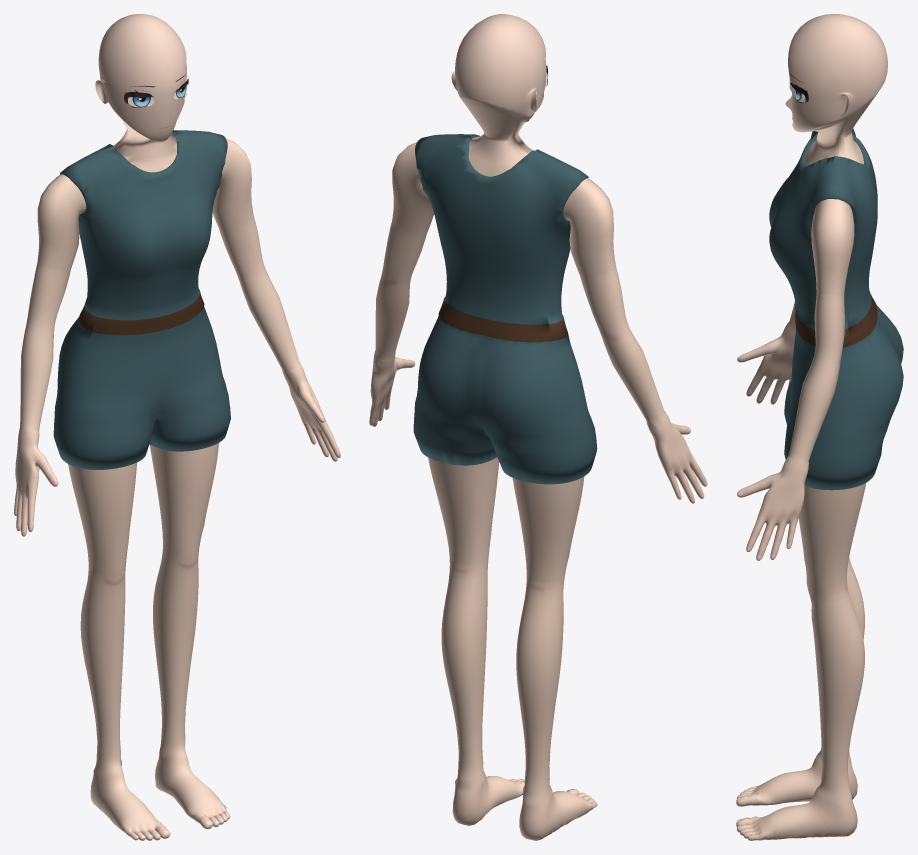
Rendered from eve-r064-pose.glb.
3 renders of one model, left to right at view 1: azimuth 30°, elevation 25°; view 2: azimuth 150°, elevation 25°; view 3: azimuth 270°, elevation 25°, orthographic. The views are drawn at different scales.
Visible parts, largest first — view 1: Eve_Skin, Eve_Outfit_Basic, Eve_Face; view 2: Eve_Skin, Eve_Outfit_Basic; view 3: Eve_Skin, Eve_Outfit_Basic.
Part boxes in pixels (bbox=[...]): Eve_Skin: bbox=[14, 14, 340, 840]; Eve_Outfit_Basic: bbox=[53, 130, 230, 469]; Eve_Face: bbox=[124, 74, 188, 129]; Eve_Skin: bbox=[369, 14, 707, 840]; Eve_Outfit_Basic: bbox=[413, 134, 597, 484]; Eve_Skin: bbox=[736, 14, 887, 840]; Eve_Outfit_Basic: bbox=[769, 128, 903, 490].
Size of the model in its own units: 0.6742 by 1.59 by 0.302.
18 materials, 14 textured.
